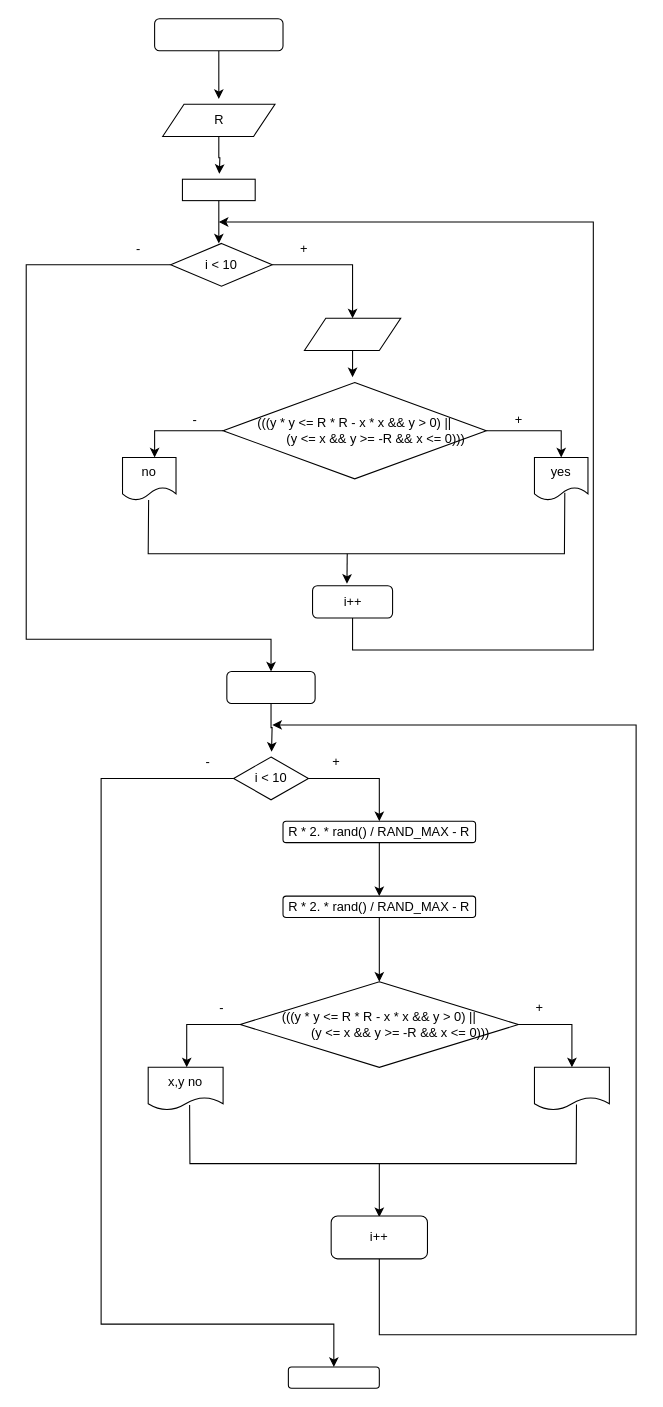
This 663x1407 diagram has some shape labels left out. Each missing label, with the centre of its shape:
"i = 0" belongs at (x=218, y=189).
"i=0" belongs at (x=270, y=687).
"x , y" belongs at (x=352, y=333).
"x,y yes" belongs at (x=571, y=1088).
"кінець" belongs at (x=333, y=1377).
"початок" belongs at (x=218, y=34).
